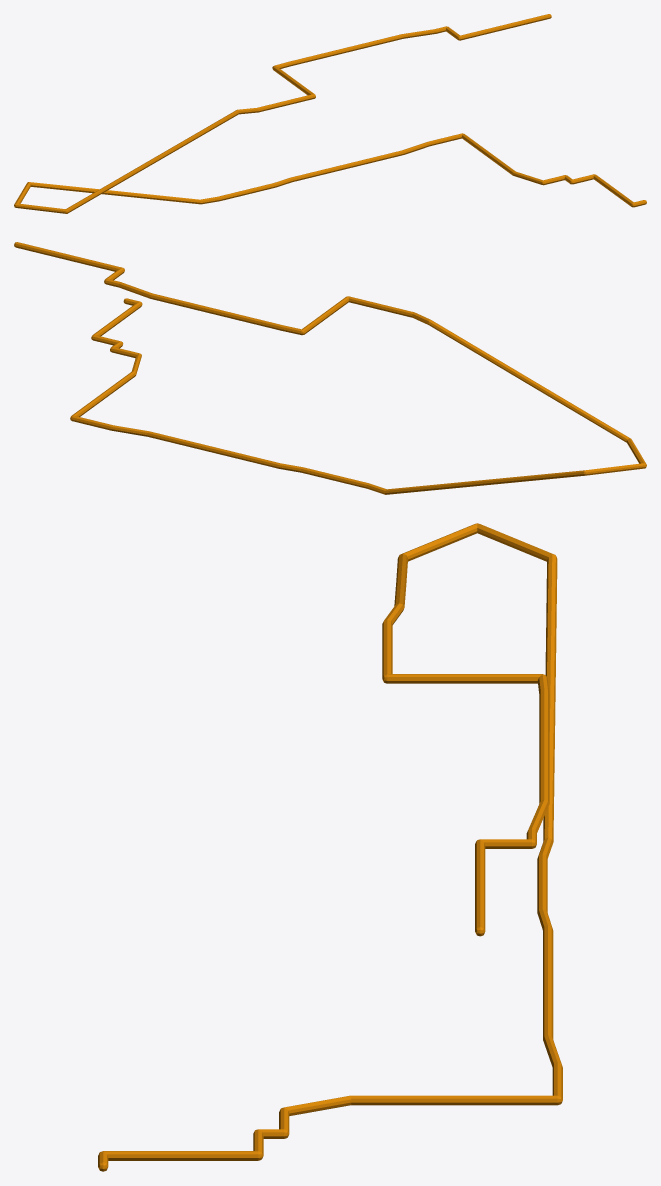
3 renders of one model, top to bottom at view 1: azimuth 30°, elevation 25°; view 2: azimuth 150°, elevation 25°; view 3: azimuth 270°, elevation 25°, orthographic. The views are drawn at different scales.
Bounding box in the file's own units: 2406 × 520 × 899.
